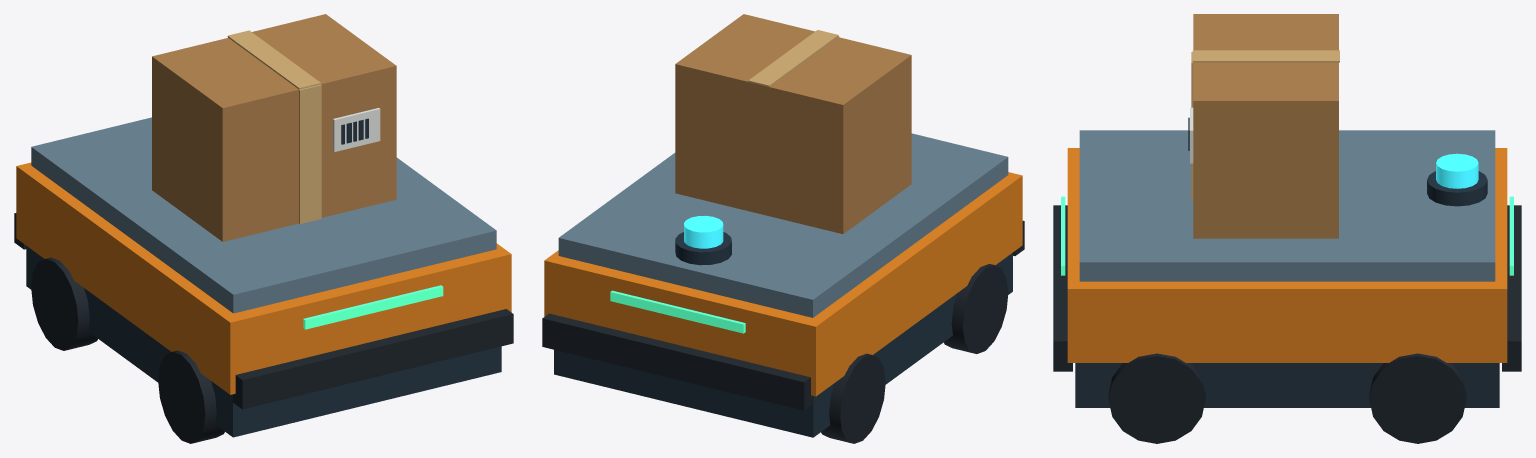
The model's file is agv.7482e3b38985.glb.
The picture shows the model from 3 angles, left to right: view 1: azimuth 30°, elevation 25°; view 2: azimuth 150°, elevation 25°; view 3: azimuth 270°, elevation 25°; orthographic projection. The views are drawn at different scales.
Parts seen in each view (by area): view 1: corrugated_cardboard_0015, chassis_0002, deck_0003, underbody_0001, bumper_0010, wheel_0004, wheel_0005, packing_tape_front_0017, packing_tape_top_0016, status_strip_0011, identification_plate_0018; view 2: corrugated_cardboard_0015, deck_0003, chassis_0002, underbody_0001, bumper_0008, wheel_0004, wheel_0005, packing_tape_top_0016, status_strip_0009, lidar_sensor_0013, lidar_base_0012; view 3: deck_0003, chassis_0002, corrugated_cardboard_0015, underbody_0001, wheel_0006, wheel_0007, bumper_0008, bumper_0010, packing_tape_top_0016, lidar_sensor_0013, lidar_base_0012.
Boxes of the visible parts, x1,y1,x2,y2 form: corrugated_cardboard_0015: (152, 14, 396, 241); chassis_0002: (16, 162, 511, 394); deck_0003: (31, 117, 496, 313); underbody_0001: (26, 246, 501, 437); bumper_0010: (233, 309, 513, 409); wheel_0004: (31, 257, 97, 350); wheel_0005: (158, 350, 224, 443); packing_tape_front_0017: (299, 84, 321, 223); packing_tape_top_0016: (227, 30, 320, 89); status_strip_0011: (303, 285, 443, 329); identification_plate_0018: (333, 108, 380, 151); corrugated_cardboard_0015: (675, 14, 911, 233); deck_0003: (558, 133, 1008, 317); chassis_0002: (544, 172, 1022, 396); underbody_0001: (554, 252, 1012, 437); bumper_0008: (542, 313, 813, 410); wheel_0004: (821, 353, 885, 443); wheel_0005: (944, 264, 1008, 353); packing_tape_top_0016: (748, 30, 838, 86); status_strip_0009: (610, 290, 745, 333); lidar_sensor_0013: (684, 215, 723, 248); lidar_base_0012: (675, 232, 731, 265); deck_0003: (1079, 130, 1495, 281); chassis_0002: (1067, 148, 1507, 362); corrugated_cardboard_0015: (1193, 14, 1338, 238); underbody_0001: (1075, 363, 1499, 407); wheel_0006: (1369, 353, 1466, 443); wheel_0007: (1108, 353, 1205, 443); bumper_0008: (1502, 205, 1521, 371); bumper_0010: (1053, 205, 1072, 371); packing_tape_top_0016: (1192, 50, 1339, 62); lidar_sensor_0013: (1436, 153, 1478, 188); lidar_base_0012: (1427, 171, 1487, 206).
Size of the model in its own units: 1.14 by 1.15 by 1.54.
